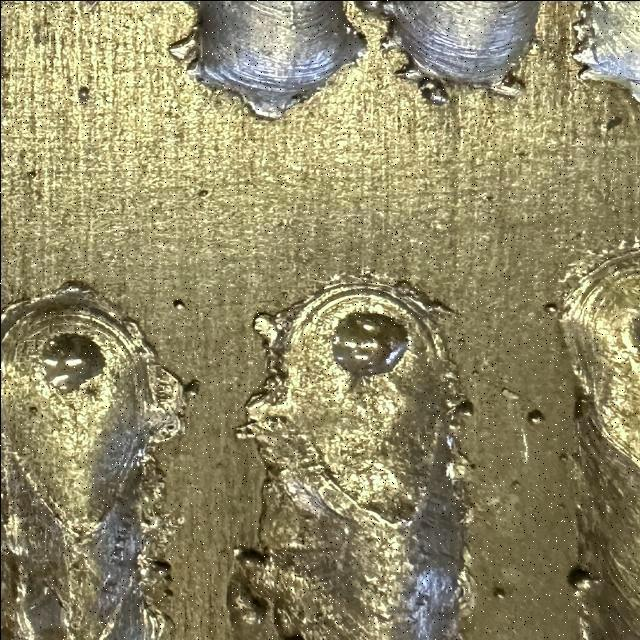Excess Reinforcement: (572, 1, 612, 79), (393, 57, 448, 105), (392, 280, 455, 316), (445, 399, 473, 479), (243, 371, 288, 420), (135, 448, 163, 526), (228, 91, 298, 120), (147, 363, 185, 415), (135, 551, 172, 602), (455, 548, 477, 625), (122, 318, 157, 362), (0, 510, 27, 562), (473, 72, 525, 99), (147, 405, 183, 442), (142, 601, 173, 640), (167, 24, 198, 62), (233, 588, 265, 624), (341, 22, 365, 64), (8, 611, 38, 640), (380, 31, 410, 59), (353, 0, 390, 20), (253, 312, 277, 341), (235, 548, 265, 569), (235, 420, 264, 440), (395, 64, 407, 75)
Spatters: (567, 568, 595, 591), (525, 409, 543, 424), (77, 85, 90, 104), (543, 302, 558, 314), (492, 586, 505, 598), (172, 299, 185, 309), (197, 189, 208, 198), (559, 452, 568, 461), (511, 479, 520, 487), (457, 338, 465, 346), (471, 369, 478, 376), (558, 503, 565, 509)
